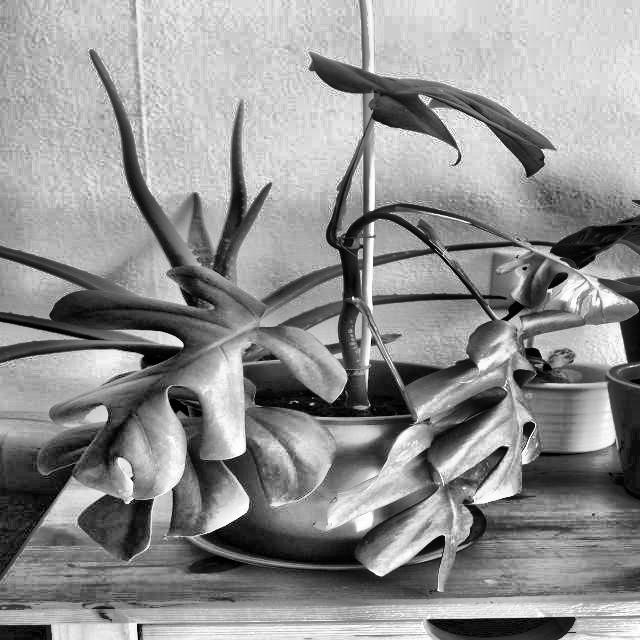plants: (29, 45, 604, 596), (314, 175, 598, 600)
